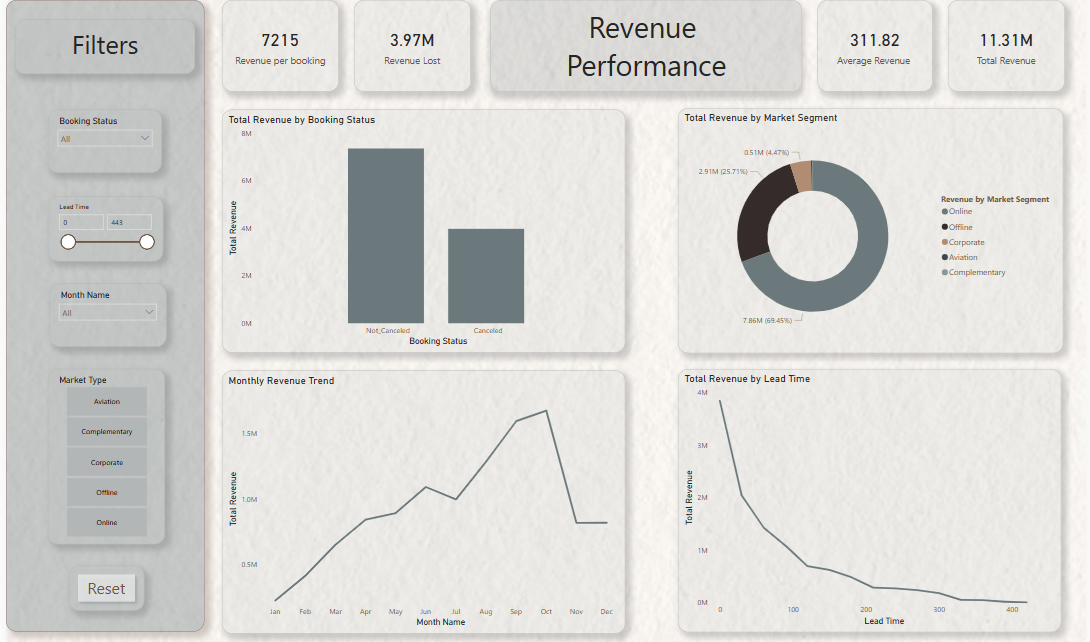

Layout of this report page (visuals, bound fields, positions):
{"tool":"powerbi","page":{"name":"Page 2","canvas":[1800,1100],"ordinal":1},"visuals":[{"type":"textbox","box":[808.3,25,519.4,152.8],"z":0},{"type":"card","fields":{"Values":["Avg(Hotel Reservations.revenue_per_booking)"]},"box":[1352.8,25,191.7,152.8],"z":1000},{"type":"lineChart","title":"Monthly Revenue Trend","fields":{"Category":["Hotel Reservations.Month Name"],"Y":["Hotel Reservations.Total Revenue"]},"box":[361.1,641.7,672.2,438.9],"z":2000},{"type":"clusteredColumnChart","title":"Total Revenue by Booking Status","fields":{"Category":["Hotel Reservations.booking_status"],"Y":["Hotel Reservations.Total Revenue"]},"box":[361.1,208.3,672.2,405.6],"z":3000},{"type":"lineChart","title":"Total Revenue by Lead Time","fields":{"Y":["Hotel Reservations.Total Revenue"],"Category":["Hotel Reservations.lead_time (bins)"]},"box":[1119.4,638.9,638.9,438.9],"z":4000},{"type":"textbox","box":[0,25,330.6,1052.8],"z":5000},{"type":"textbox","box":[14.3,57.1,300,90.5],"z":6000},{"type":"card","fields":{"Values":["Count(Hotel Reservations.revenue_per_booking)"]},"box":[361.1,25,194.4,152.8],"z":7000},{"type":"card","fields":{"Values":["Sum(Hotel Reservations.Revenue_Lost)"]},"box":[580.6,25,194.4,152.8],"z":8000},{"type":"card","fields":{"Values":["Hotel Reservations.Total Revenue"]},"box":[1569.4,25,194.4,152.8],"z":9000},{"type":"donutChart","title":"Total Revenue by Market Segment","fields":{"Category":["Hotel Reservations.market_segment_type"],"Y":["Hotel Reservations.Total Revenue"]},"box":[1119.4,205.6,641.7,408.3],"z":10000},{"type":"slicer","fields":{"Values":["Hotel Reservations.booking_status"]},"box":[71.1,207.9,189.5,105.3],"z":11000},{"type":"slicer","fields":{"Values":["Hotel Reservations.market_segment_type"]},"box":[69.4,638.9,194.4,291.7],"z":12000},{"type":"slicer","fields":{"Values":["Hotel Reservations.Month Name"]},"box":[72.2,497.2,194.4,105.6],"z":13000},{"type":"actionButton","box":[105.6,966.7,125,75],"z":14000},{"type":"slicer","fields":{"Values":["Hotel Reservations.lead_time"]},"box":[71.1,352.6,192.1,107.9],"z":15000}]}

Visuals, with their boxes on the page's 1800x1100 design canvas (x1, y1, x2, y2). These are canvas units, not pixel positions in the 1090x642 screenshot, which may show the page scaled, cropped or inside an application window:
textbox: [left=808, top=25, right=1328, bottom=178]
card - Avg(Hotel Reservations.revenue_per_booking): [left=1353, top=25, right=1544, bottom=178]
"Monthly Revenue Trend" lineChart: [left=361, top=642, right=1033, bottom=1081]
"Total Revenue by Booking Status" clusteredColumnChart: [left=361, top=208, right=1033, bottom=614]
"Total Revenue by Lead Time" lineChart: [left=1119, top=639, right=1758, bottom=1078]
textbox: [left=0, top=25, right=331, bottom=1078]
textbox: [left=14, top=57, right=314, bottom=148]
card - Count(Hotel Reservations.revenue_per_booking): [left=361, top=25, right=556, bottom=178]
card - Sum(Hotel Reservations.Revenue_Lost): [left=581, top=25, right=775, bottom=178]
card - Hotel Reservations.Total Revenue: [left=1569, top=25, right=1764, bottom=178]
"Total Revenue by Market Segment" donutChart: [left=1119, top=206, right=1761, bottom=614]
slicer - Hotel Reservations.booking_status: [left=71, top=208, right=261, bottom=313]
slicer - Hotel Reservations.market_segment_type: [left=69, top=639, right=264, bottom=931]
slicer - Hotel Reservations.Month Name: [left=72, top=497, right=267, bottom=603]
actionButton: [left=106, top=967, right=231, bottom=1042]
slicer - Hotel Reservations.lead_time: [left=71, top=353, right=263, bottom=460]
